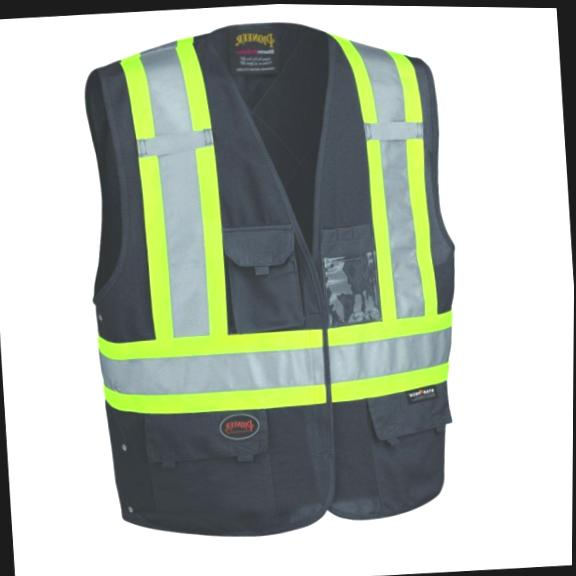safety_vest: (70, 10, 474, 543)
